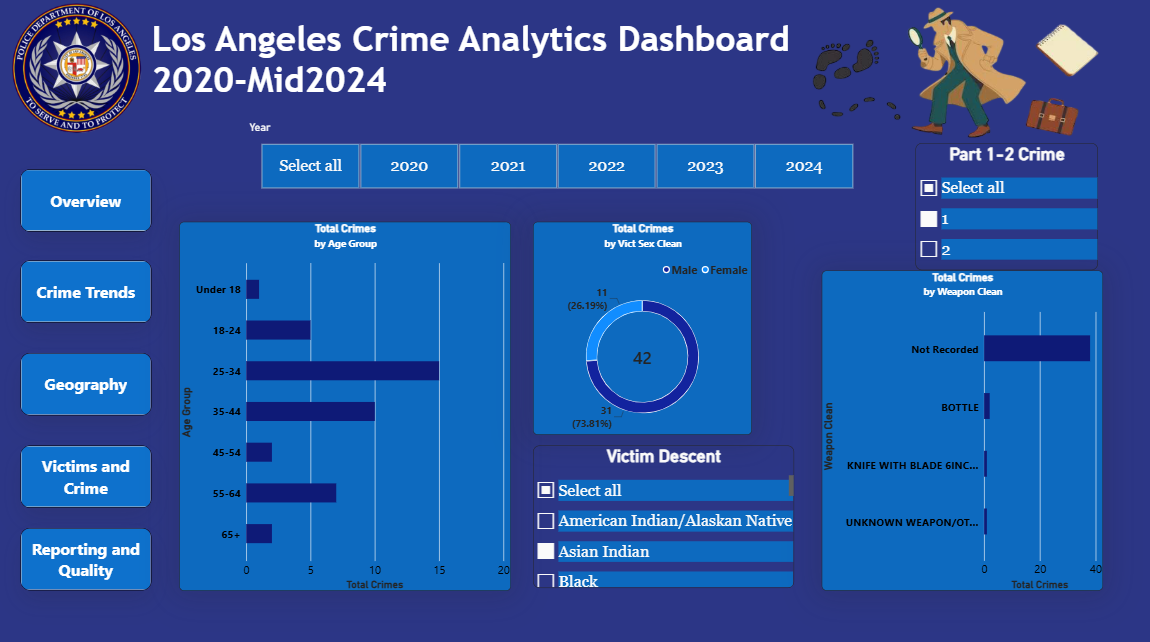

This screenshot's page, from the dashboard's own definition file:
{"tool":"powerbi","page":{"name":"Victims and Crime","canvas":[1920,1080],"ordinal":3},"visuals":[{"type":"image","box":[18,8,221.4,220],"z":0},{"type":"actionButton","box":[38,286,218,104],"z":0,"group":"g1"},{"type":"group","id":"g1","title":"Group 1","box":[38,286,218,702],"z":1000},{"type":"actionButton","box":[38,438,218,104],"z":1000,"group":"g1"},{"type":"slicer","title":"Year","fields":{"Values":["Date Table.Year"]},"box":[418,204,1025,115],"z":2000},{"type":"actionButton","box":[38,592,218,104],"z":2000,"group":"g1"},{"type":"barChart","fields":{"Category":["Los_Angelas_Crime_Data_2020_24.Age Group"],"Y":["Los_Angelas_Crime_Data_2020_24.Total Crimes"]},"box":[302.5,372.5,552.5,615],"z":3000},{"type":"actionButton","box":[38,746,218,104],"z":3000,"group":"g1"},{"type":"donutChart","fields":{"Category":["Los_Angelas_Crime_Data_2020_24.Vict Sex Clean"],"Y":["Los_Angelas_Crime_Data_2020_24.Total Crimes"]},"box":[892.5,372.5,365,355],"z":4000},{"type":"actionButton","box":[38,884,218,104],"z":4000,"group":"g1"},{"type":"slicer","title":"Victim Descent","fields":{"Values":["Los_Angelas_Crime_Data_2020_24.Vict Descent Clean"]},"box":[892.5,745,435,237.5],"z":5000},{"type":"clusteredBarChart","fields":{"Category":["Los_Angelas_Crime_Data_2020_24.Weapon Clean"],"Y":["Los_Angelas_Crime_Data_2020_24.Total Crimes"]},"box":[1372.9,454.2,468.8,533.3],"z":6000},{"type":"textbox","box":[255.2,32.9,1130,170.8],"z":7000},{"type":"slicer","title":"Part 1-2 Crime","fields":{"Values":["Los_Angelas_Crime_Data_2020_24.Part 1-2"]},"box":[1529.2,241.7,304,212],"z":8000},{"type":"image","box":[1270,0,650,262.5],"z":8001}]}

Visuals, with their boxes in screenshot pixels (x1, y1, x2, y2), scaled from the page's 1920x1080 canvas onto the 1150x642 screenshot:
image: pyautogui.locateOnScreen(11, 5, 143, 136)
actionButton: pyautogui.locateOnScreen(23, 170, 153, 232)
"Group 1" group: pyautogui.locateOnScreen(23, 170, 153, 587)
actionButton: pyautogui.locateOnScreen(23, 260, 153, 322)
"Year" slicer: pyautogui.locateOnScreen(250, 121, 864, 190)
actionButton: pyautogui.locateOnScreen(23, 352, 153, 414)
barChart - Los_Angelas_Crime_Data_2020_24.Age Group x Los_Angelas_Crime_Data_2020_24.Total Crimes: pyautogui.locateOnScreen(181, 221, 512, 587)
actionButton: pyautogui.locateOnScreen(23, 443, 153, 505)
donutChart - Los_Angelas_Crime_Data_2020_24.Vict Sex Clean x Los_Angelas_Crime_Data_2020_24.Total Crimes: pyautogui.locateOnScreen(535, 221, 753, 432)
actionButton: pyautogui.locateOnScreen(23, 525, 153, 587)
"Victim Descent" slicer: pyautogui.locateOnScreen(535, 443, 795, 584)
clusteredBarChart - Los_Angelas_Crime_Data_2020_24.Weapon Clean x Los_Angelas_Crime_Data_2020_24.Total Crimes: pyautogui.locateOnScreen(822, 270, 1103, 587)
textbox: pyautogui.locateOnScreen(153, 20, 830, 121)
"Part 1-2 Crime" slicer: pyautogui.locateOnScreen(916, 144, 1098, 270)
image: pyautogui.locateOnScreen(761, 0, 1149, 156)
